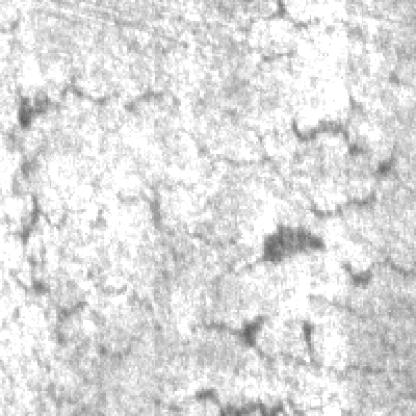crazing: (31, 141, 416, 300), (66, 0, 414, 135), (19, 186, 214, 408)
